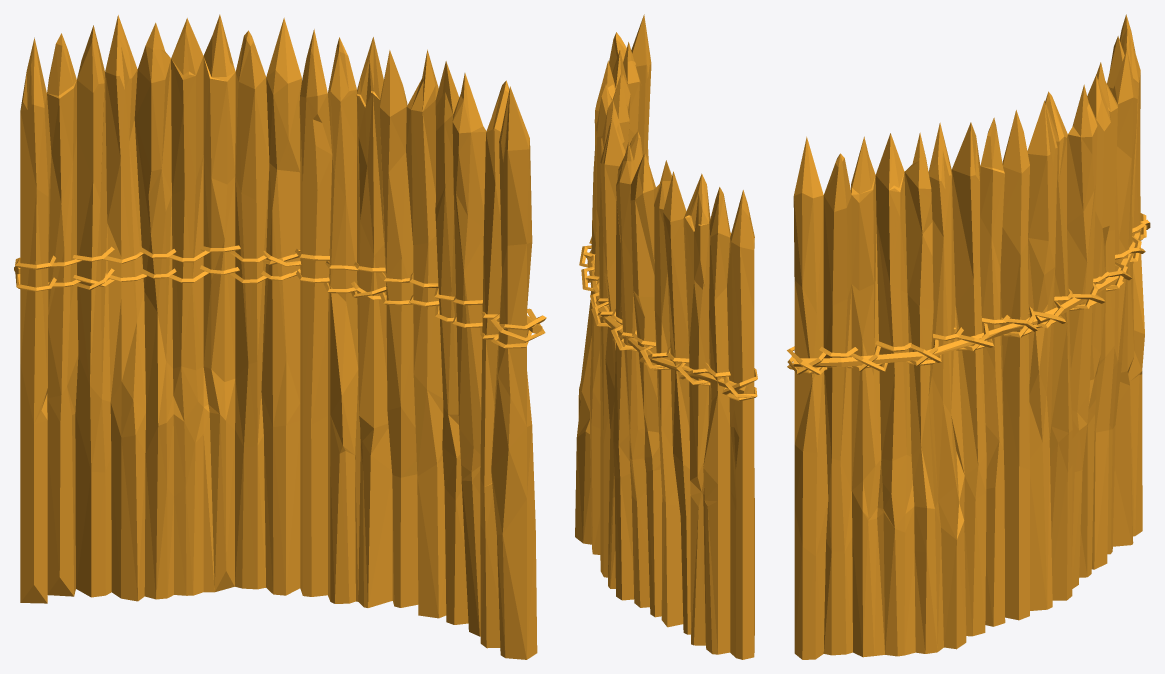
Rendered from SM_Palisade_Corner_Round_3x3_Concave_A.fbx.
3 renders of one model, left to right at view 1: azimuth 30°, elevation 25°; view 2: azimuth 150°, elevation 25°; view 3: azimuth 270°, elevation 25°, orthographic. The views are drawn at different scales.
Visible parts, largest first — view 1: palisade-corner-round-3x3-concave-a; view 2: palisade-corner-round-3x3-concave-a; view 3: palisade-corner-round-3x3-concave-a.
Boxes of the visible parts, x1,y1,x2,y2 form: palisade-corner-round-3x3-concave-a: [14, 14, 546, 659]; palisade-corner-round-3x3-concave-a: [575, 14, 757, 659]; palisade-corner-round-3x3-concave-a: [787, 14, 1150, 659].
Bounding box in the file's own units: 4.39 × 6.85 × 4.41.
